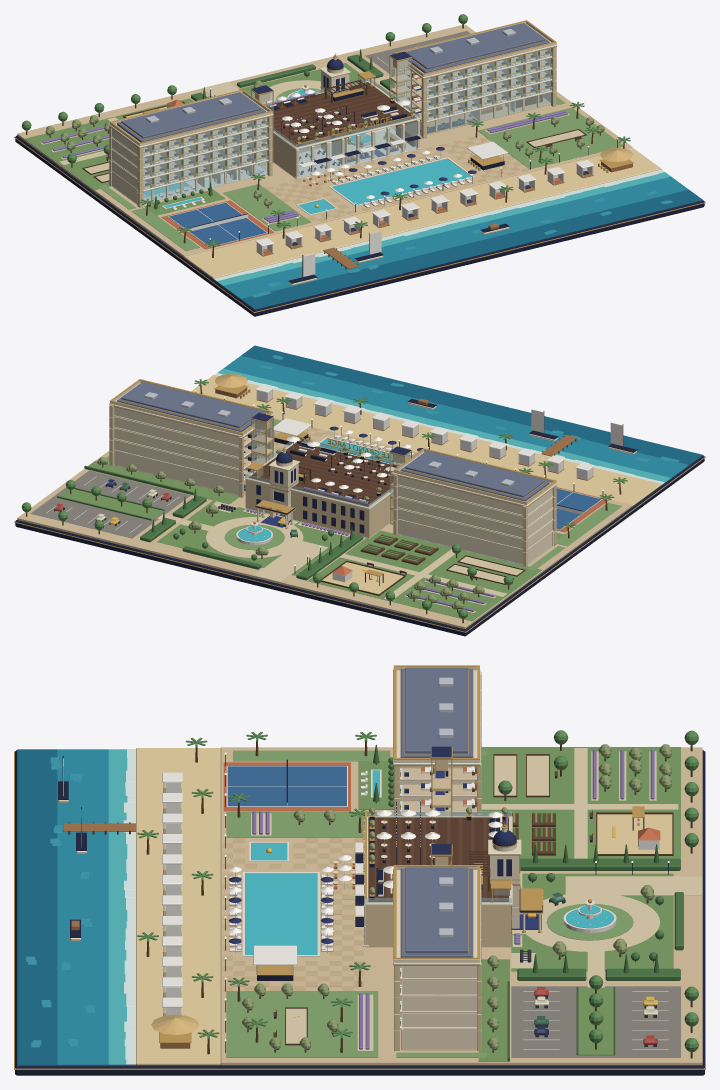
The model's file is grand-large.glb.
The picture shows the model from 3 angles, top to bottom: view 1: azimuth 30°, elevation 25°; view 2: azimuth 150°, elevation 25°; view 3: azimuth 270°, elevation 25°; orthographic projection. The views are drawn at different scales.
Parts seen in each view (by area): view 1: grounds-mesh, level-roof-mesh, level-0-mesh, level-3-mesh, level-2-mesh, level-1-mesh, level-4-mesh, pavilion-upper; view 2: grounds-mesh, level-roof-mesh, level-0-mesh, level-3-mesh, level-2-mesh, level-4-mesh, level-1-mesh, pavilion-upper; view 3: grounds-mesh, level-roof-mesh, level-0-mesh, level-3-mesh, level-4-mesh, level-2-mesh, pavilion-upper, level-1-mesh.
Boxes of the visible parts, <box> form: grounds-mesh: <box>14,14,705,316</box>; level-roof-mesh: <box>109,20,557,149</box>; level-0-mesh: <box>109,92,556,207</box>; level-3-mesh: <box>109,58,556,170</box>; level-2-mesh: <box>109,69,556,181</box>; level-1-mesh: <box>109,80,556,193</box>; level-4-mesh: <box>109,47,556,159</box>; pavilion-upper: <box>261,71,419,164</box>; grounds-mesh: <box>14,345,705,636</box>; level-roof-mesh: <box>109,379,557,509</box>; level-0-mesh: <box>109,450,556,566</box>; level-3-mesh: <box>109,416,556,529</box>; level-2-mesh: <box>109,428,556,541</box>; level-4-mesh: <box>109,405,556,518</box>; level-1-mesh: <box>109,439,556,552</box>; pavilion-upper: <box>245,462,393,523</box>; grounds-mesh: <box>14,730,705,1075</box>; level-roof-mesh: <box>365,665,521,965</box>; level-0-mesh: <box>355,740,519,1050</box>; level-3-mesh: <box>394,690,481,997</box>; level-4-mesh: <box>394,672,481,980</box>; level-2-mesh: <box>394,707,481,1013</box>; pavilion-upper: <box>364,819,520,926</box>; level-1-mesh: <box>394,723,481,1030</box>.
Size of the model in its own units: 124 by 21.4 by 114.
